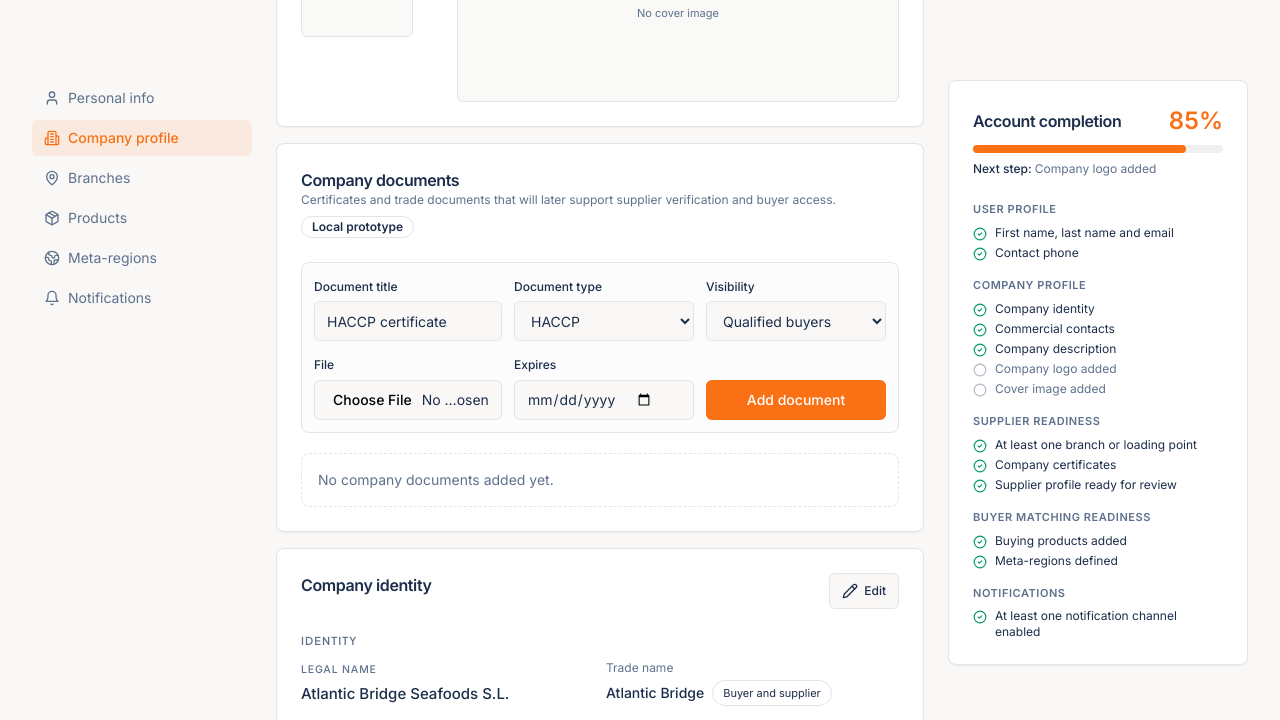
Scenario: Account editability › Company documents: local fallback adds a document record
Earlier steps of the test are not shown.
(page scrolled)
Click the button with test id "account-company-document-save": (796, 400) x1=706 y1=380 x2=886 y2=420
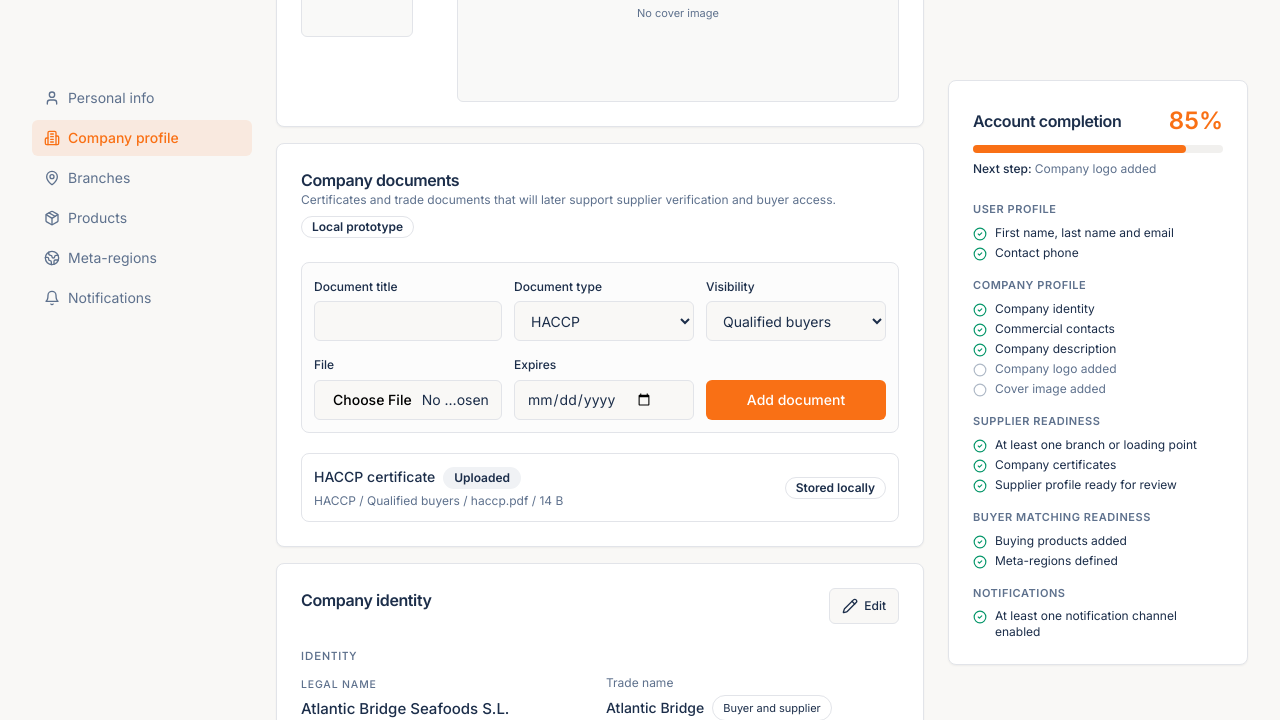
Expected: the text "HACCP certificate" is shown, x1=314 y1=466 x2=435 y2=489
Expected: the text "HACCP / Qualified buyers / haccp.pdf / 14 B" is shown, x1=314 y1=493 x2=563 y2=508
Expected: the text "Stored locally" is shown, x1=785 y1=476 x2=886 y2=498
